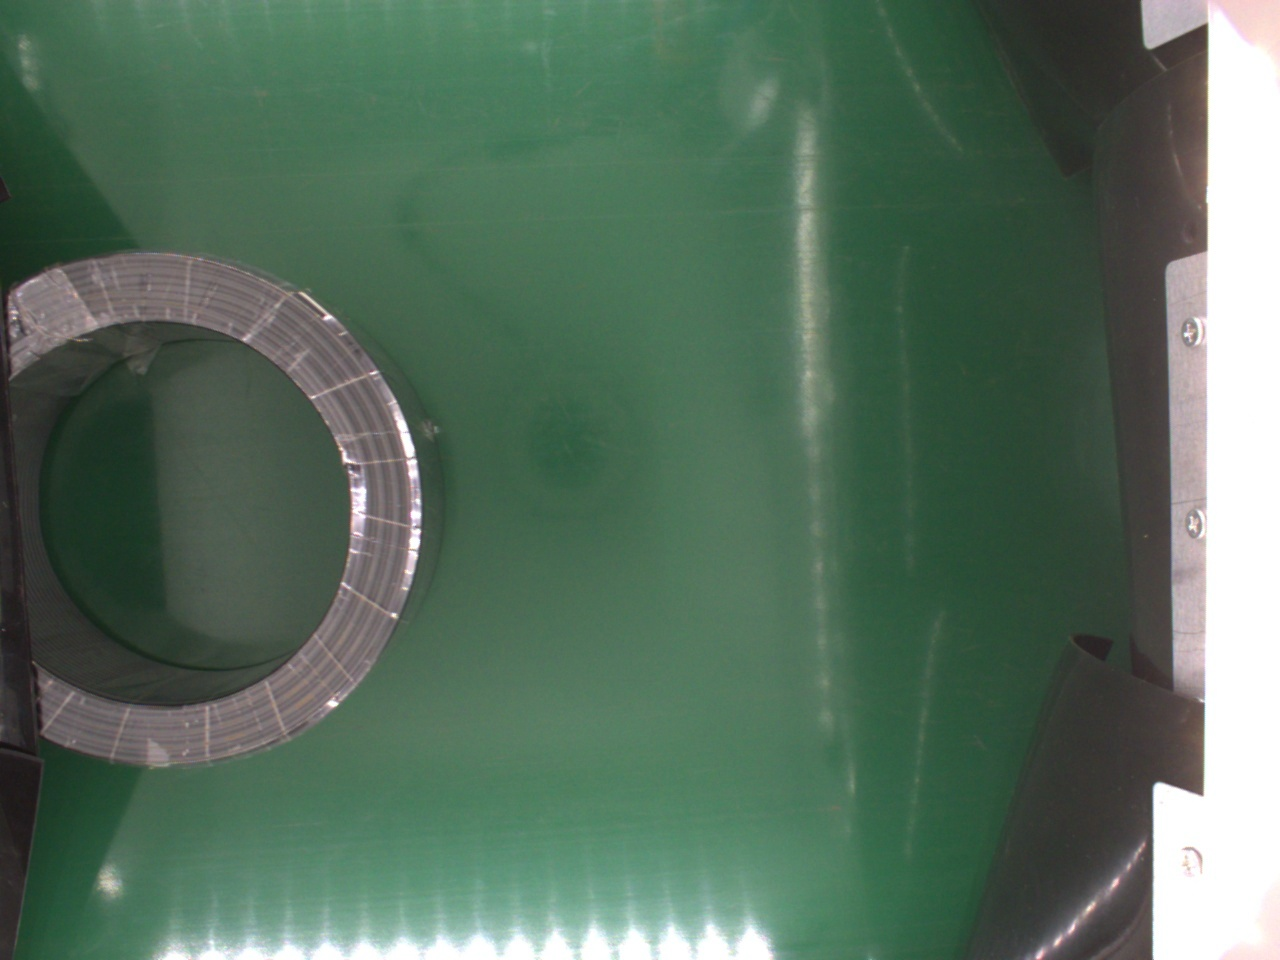black: (13, 251, 437, 771)
